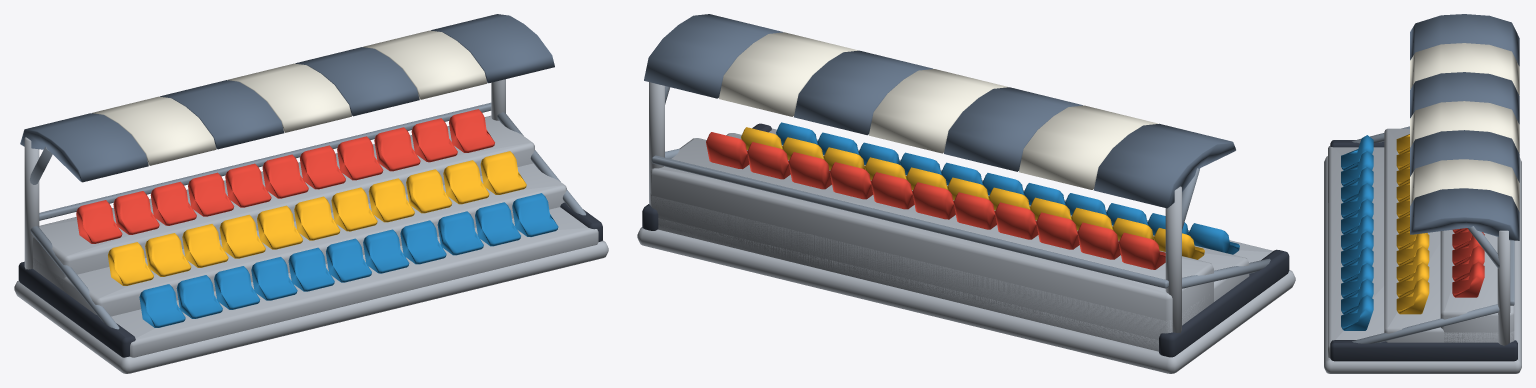
Rendered from deco-grada.glb.
3 renders of one model, left to right at view 1: azimuth 30°, elevation 25°; view 2: azimuth 150°, elevation 25°; view 3: azimuth 270°, elevation 25°, orthographic. The views are drawn at different scales.
Visible parts, largest first — view 1: deco-grada; view 2: deco-grada; view 3: deco-grada.
Part boxes in pixels (x1=…): deco-grada: x1=14, y1=14, x2=608, y2=373; deco-grada: x1=637, y1=14, x2=1295, y2=373; deco-grada: x1=1324, y1=14, x2=1521, y2=373.
Bounding box in the file's own units: 20 × 7 × 8.
